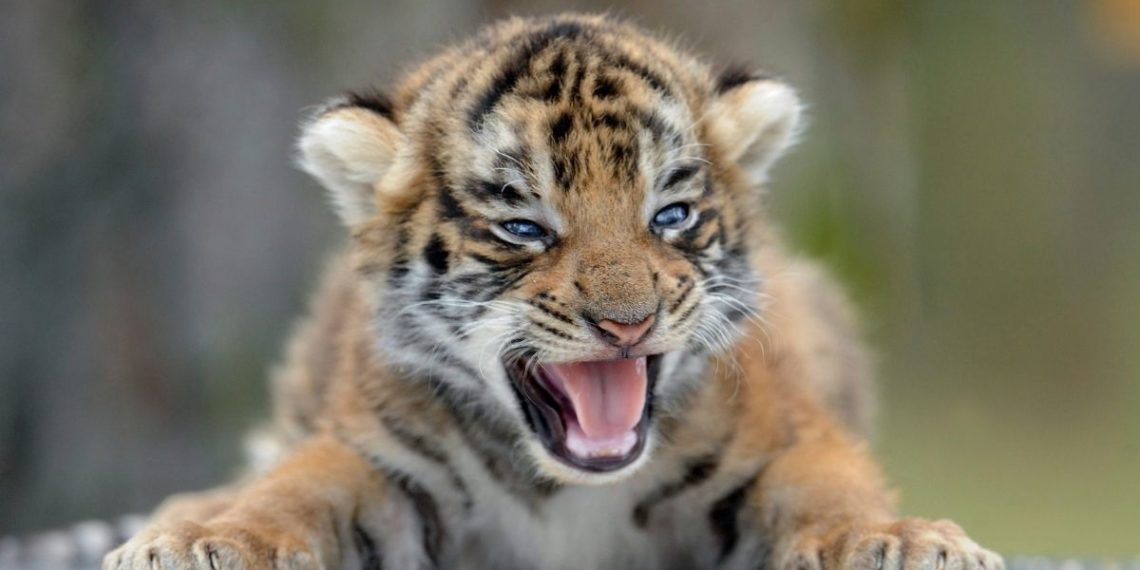Tigrew: (226, 19, 925, 570)
